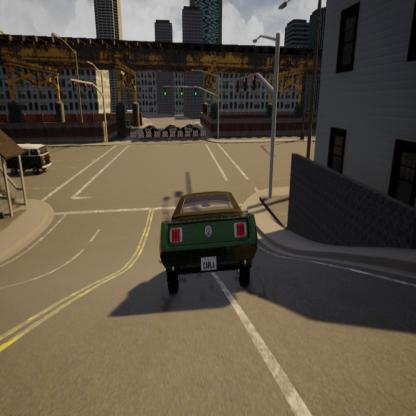Cars: (155, 176, 264, 301), (2, 140, 54, 182)
